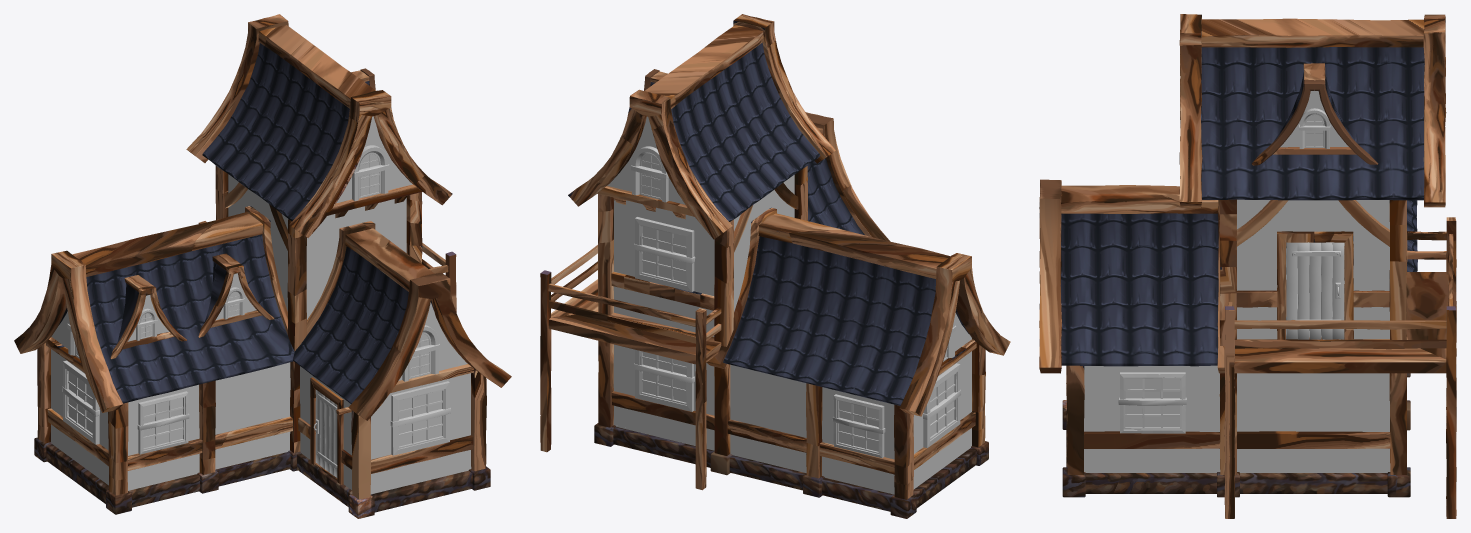
The model's file is Finished.fbx.
The picture shows the model from 3 angles, left to right: view 1: azimuth 30°, elevation 25°; view 2: azimuth 150°, elevation 25°; view 3: azimuth 270°, elevation 25°; orthographic projection. The views are drawn at different scales.
Parts seen in each view (by area): view 1: Wood_Trim, Roof, Walls_and_Floors, Windows, Foundation, Door.001; view 2: Wood_Trim, Roof, Walls_and_Floors, Windows, Foundation; view 3: Wood_Trim, Roof, Walls_and_Floors, Foundation, Door, Windows.
Part boxes in pixels (bbox=[...]): Wood_Trim: bbox=[14, 14, 511, 499]; Roof: bbox=[58, 43, 433, 403]; Walls_and_Floors: bbox=[51, 116, 471, 494]; Windows: bbox=[62, 145, 450, 455]; Foundation: bbox=[34, 437, 490, 518]; Door.001: bbox=[313, 389, 337, 477]; Wood_Trim: bbox=[540, 14, 1010, 499]; Roof: bbox=[650, 42, 968, 405]; Walls_and_Floors: bbox=[607, 116, 971, 494]; Windows: bbox=[631, 146, 960, 458]; Foundation: bbox=[594, 423, 988, 518]; Wood_Trim: bbox=[1039, 14, 1456, 518]; Roof: bbox=[1060, 47, 1424, 366]; Walls_and_Floors: bbox=[1084, 90, 1390, 472]; Foundation: bbox=[1062, 373, 1410, 497]; Door: bbox=[1286, 242, 1344, 339]; Windows: bbox=[1118, 108, 1330, 433].
Bounding box in the file's own units: 48.99 × 48.08 × 41.48.
